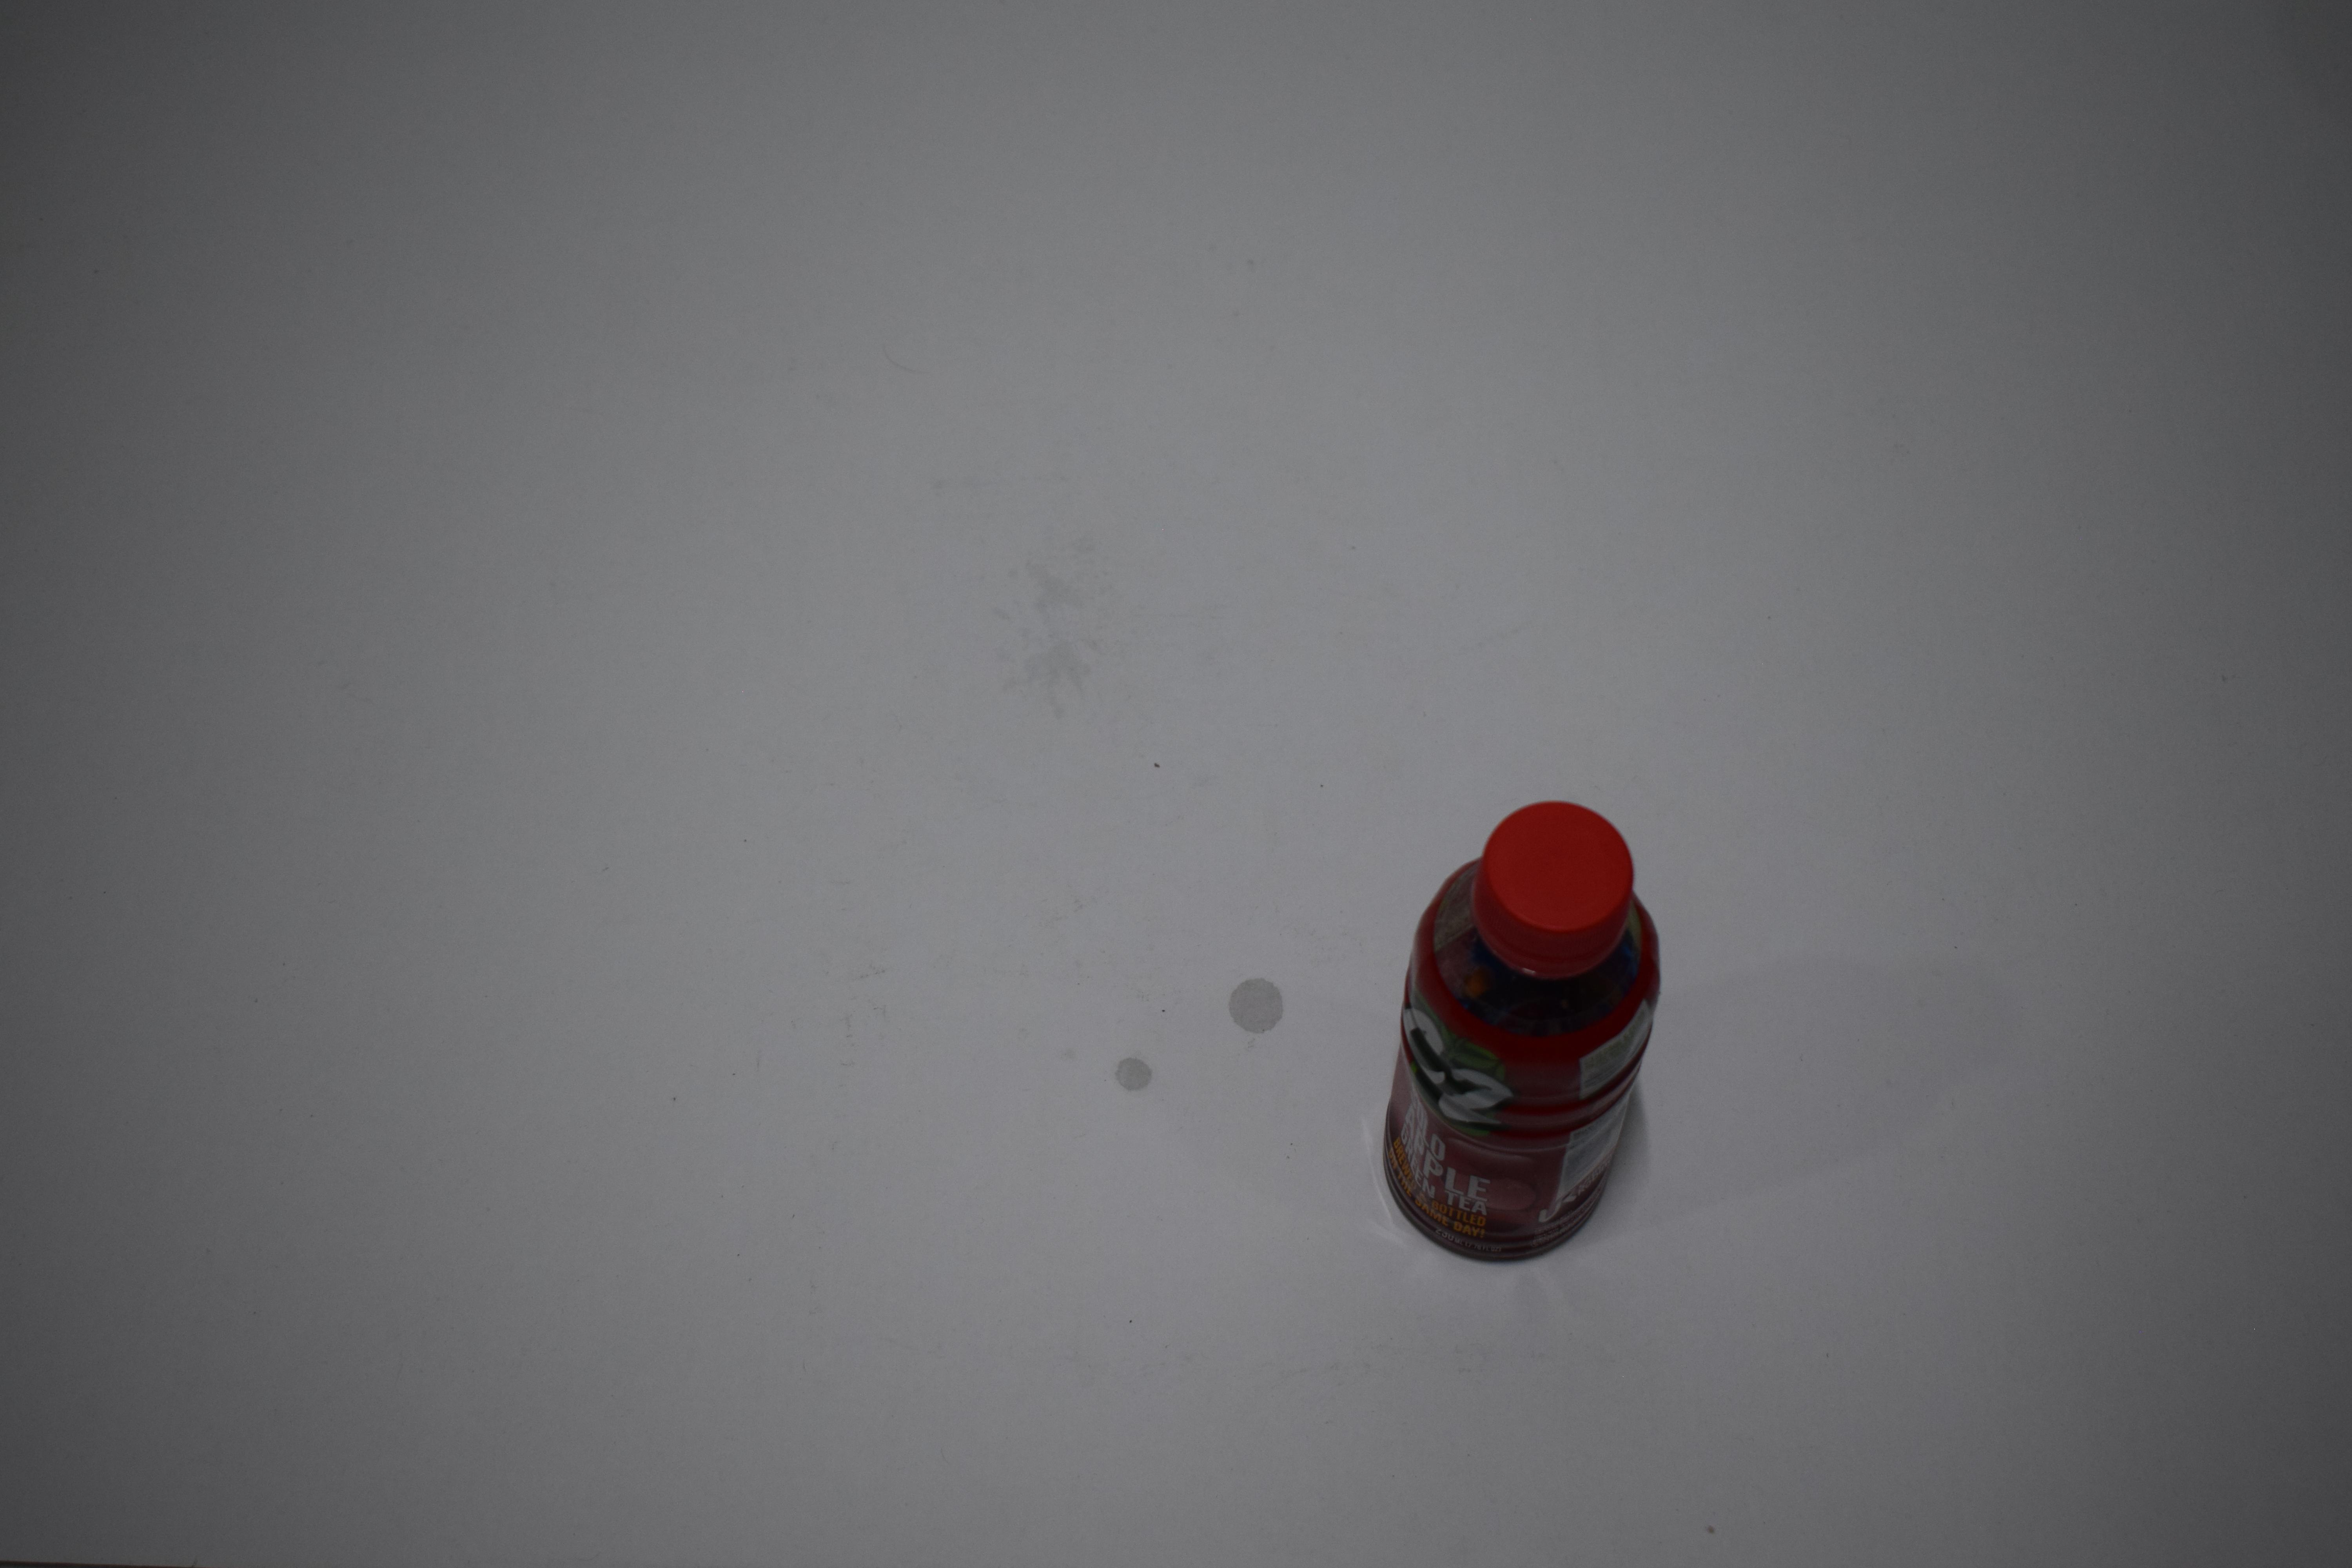bottle: (1372, 717, 1670, 1192)
